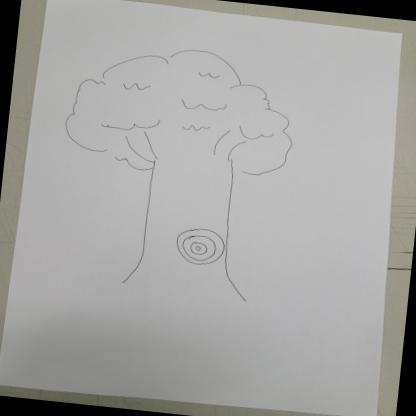branch_line: (116, 114, 256, 167)
crown_cloud: (57, 33, 304, 183)
knot: (171, 224, 228, 266)
trunk_straight: (135, 177, 242, 265)
